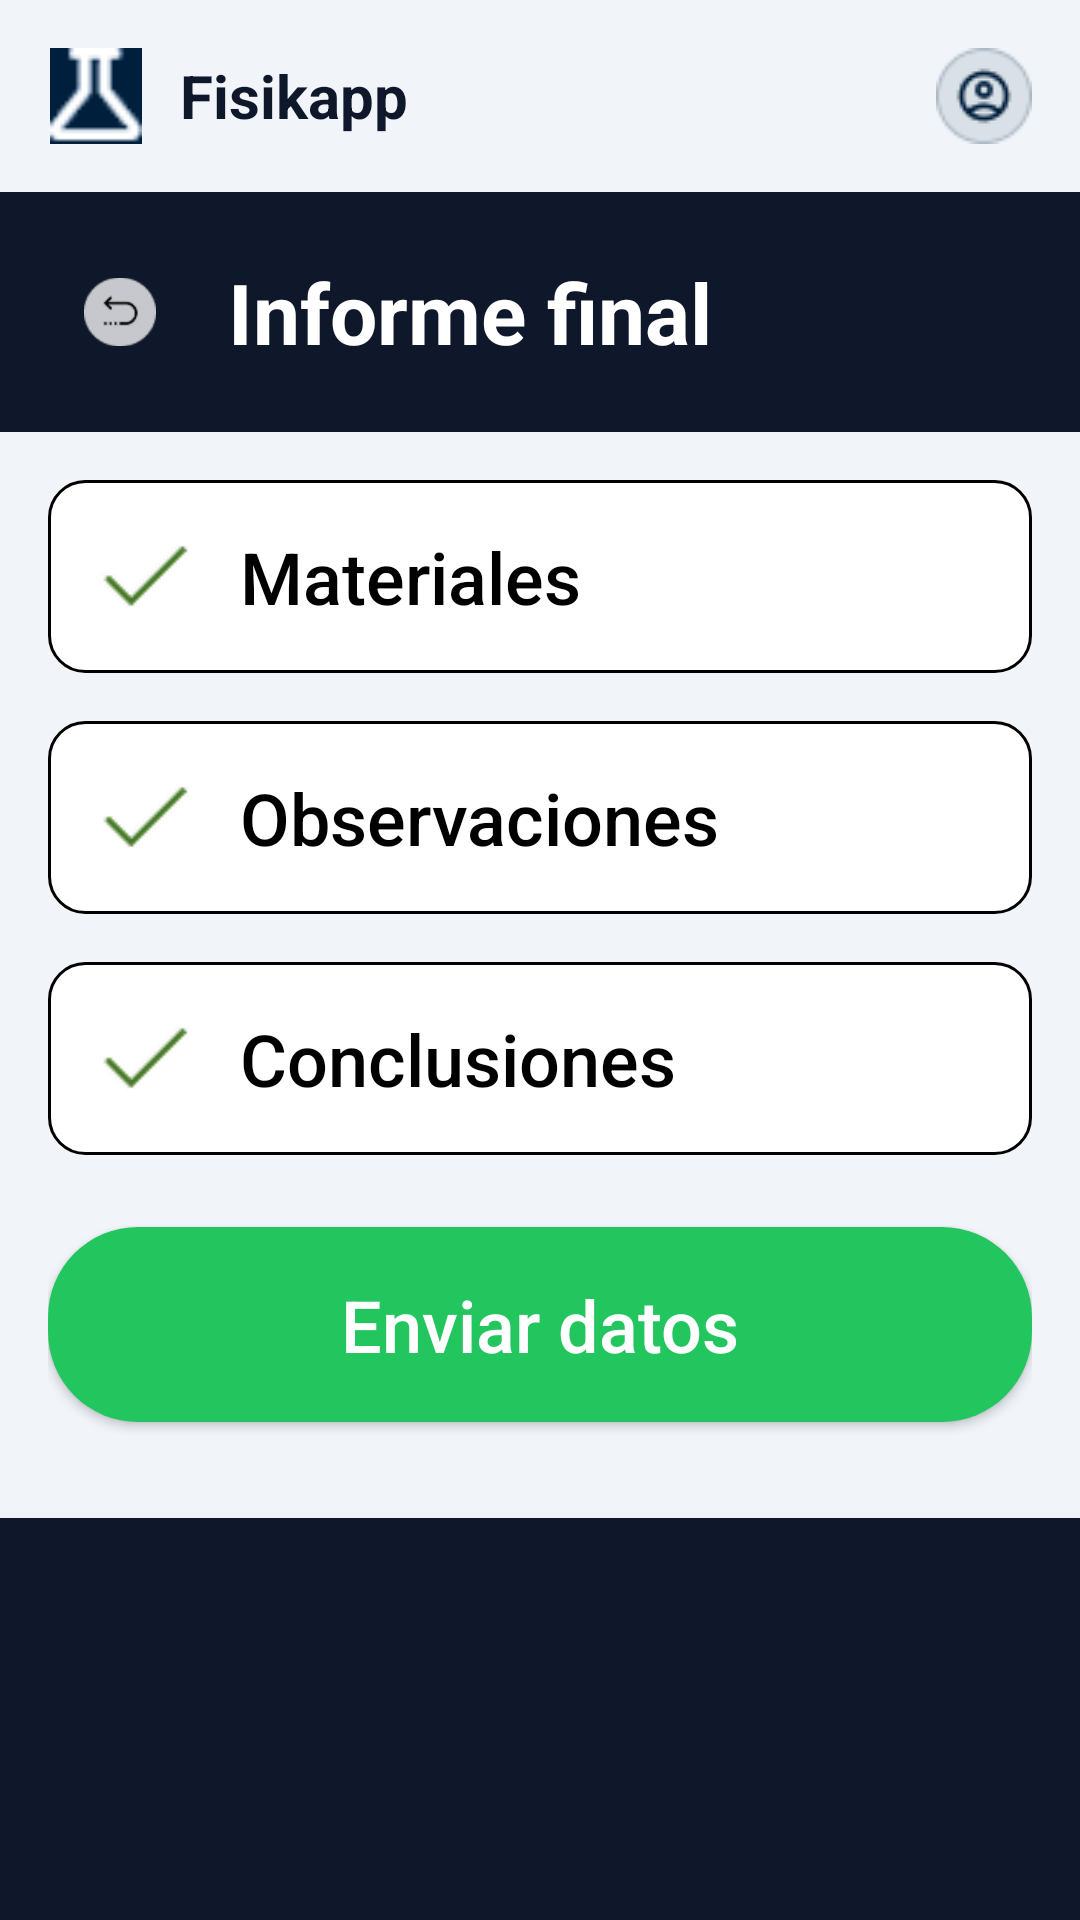

Point at icon controls on the screen. Image size 1080px x 1920px, points as [x,y].
chulo: [146,576], [146,817], [146,1058]
iconofisik: [96,96]
iconoretroceder: [120,312]
iconousuario: [984,96]
